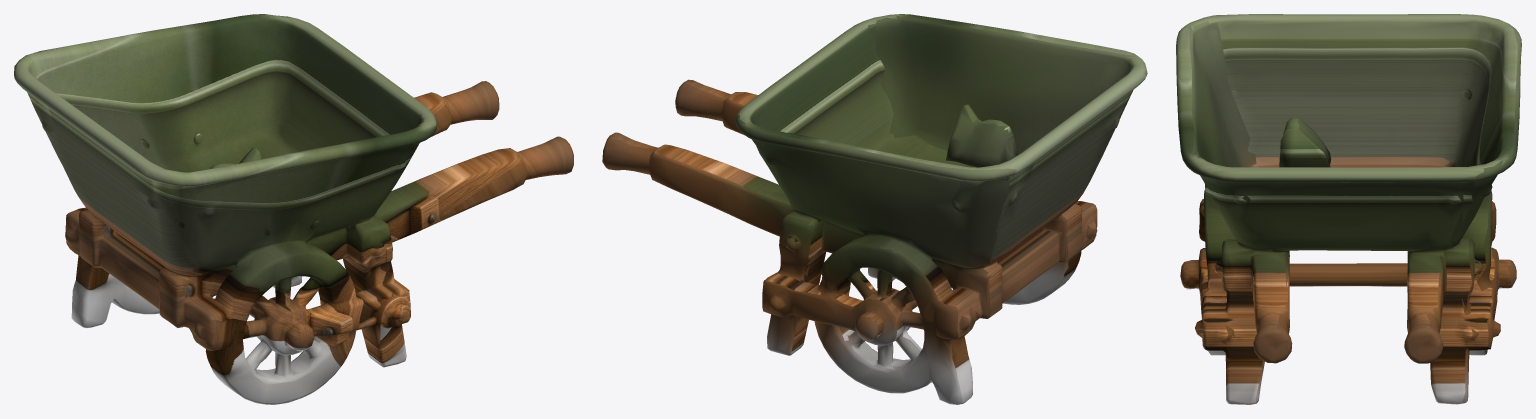
Rendered from wheelbarrow.glb.
The picture shows the model from 3 angles, left to right: view 1: azimuth 30°, elevation 25°; view 2: azimuth 150°, elevation 25°; view 3: azimuth 270°, elevation 25°; orthographic projection. The views are drawn at different scales.
Parts seen in each view (by area): view 1: wheelbarrow; view 2: wheelbarrow; view 3: wheelbarrow.
Boxes of the visible parts, bbox=[...] form: wheelbarrow: bbox=[14, 14, 573, 404]; wheelbarrow: bbox=[602, 14, 1147, 404]; wheelbarrow: bbox=[1176, 14, 1521, 404].
Size of the model in its own units: 13 by 7.37 by 8.64.
1 material, 1 textured.
